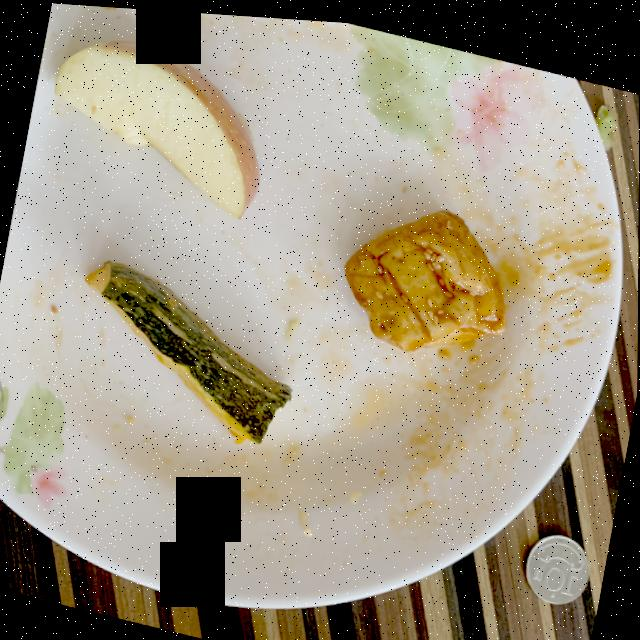apple -sliced-: (54, 38, 259, 214)
coin: (526, 527, 590, 596)
creamy tofu: (344, 204, 506, 346)
pumpkin: (85, 259, 292, 440)
